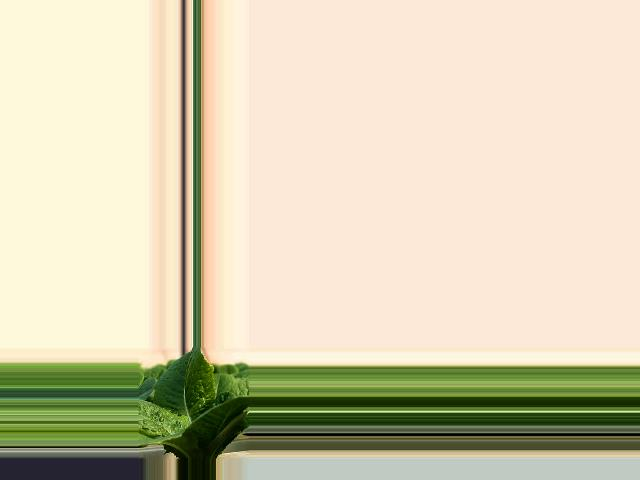lettuce: (149, 357, 247, 459)
